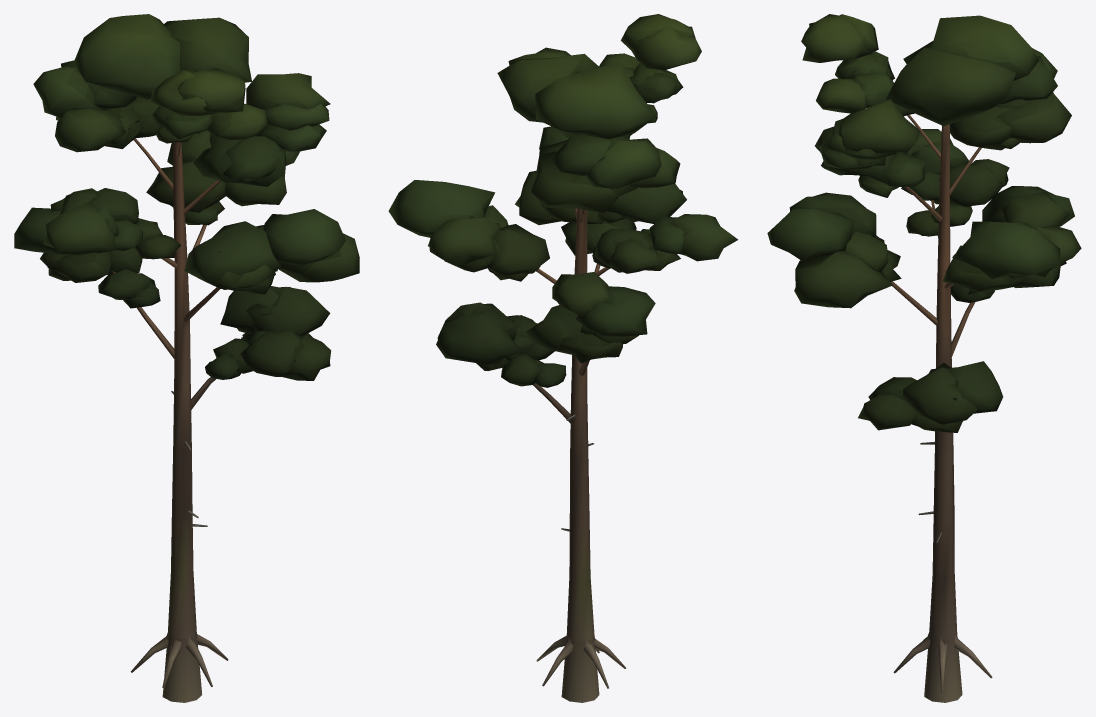
The model's file is pine_e.glb.
3 renders of one model, left to right at view 1: azimuth 30°, elevation 25°; view 2: azimuth 150°, elevation 25°; view 3: azimuth 270°, elevation 25°, orthographic. The views are drawn at different scales.
Parts seen in each view (by area): view 1: LOD0; view 2: LOD0; view 3: LOD0.
Part boxes in pixels (box(x1,y1,x2,y2)): LOD0: box(14, 14, 359, 702); LOD0: box(388, 14, 737, 702); LOD0: box(767, 14, 1081, 702).
Size of what is drawn, in the model's own units: 6.34 by 13.66 by 5.9.
